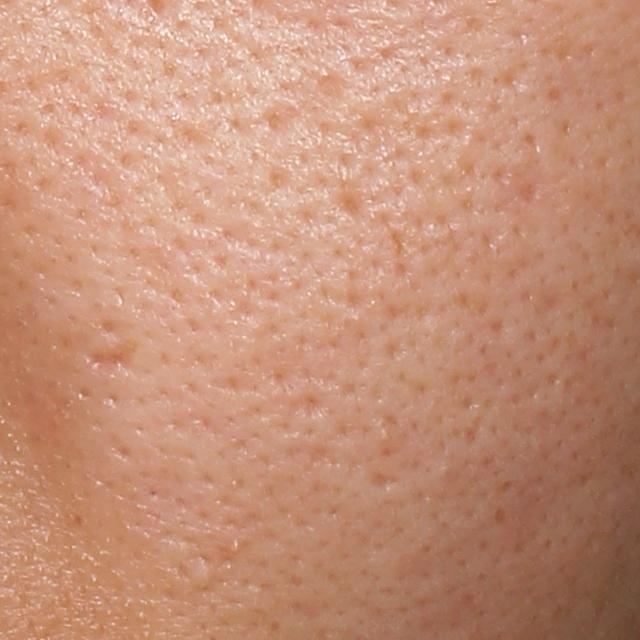atrophic_scar: (87, 340, 141, 378), (265, 104, 300, 134), (337, 194, 369, 226), (293, 392, 332, 417), (364, 468, 404, 492)
comedo: (225, 537, 245, 555)
